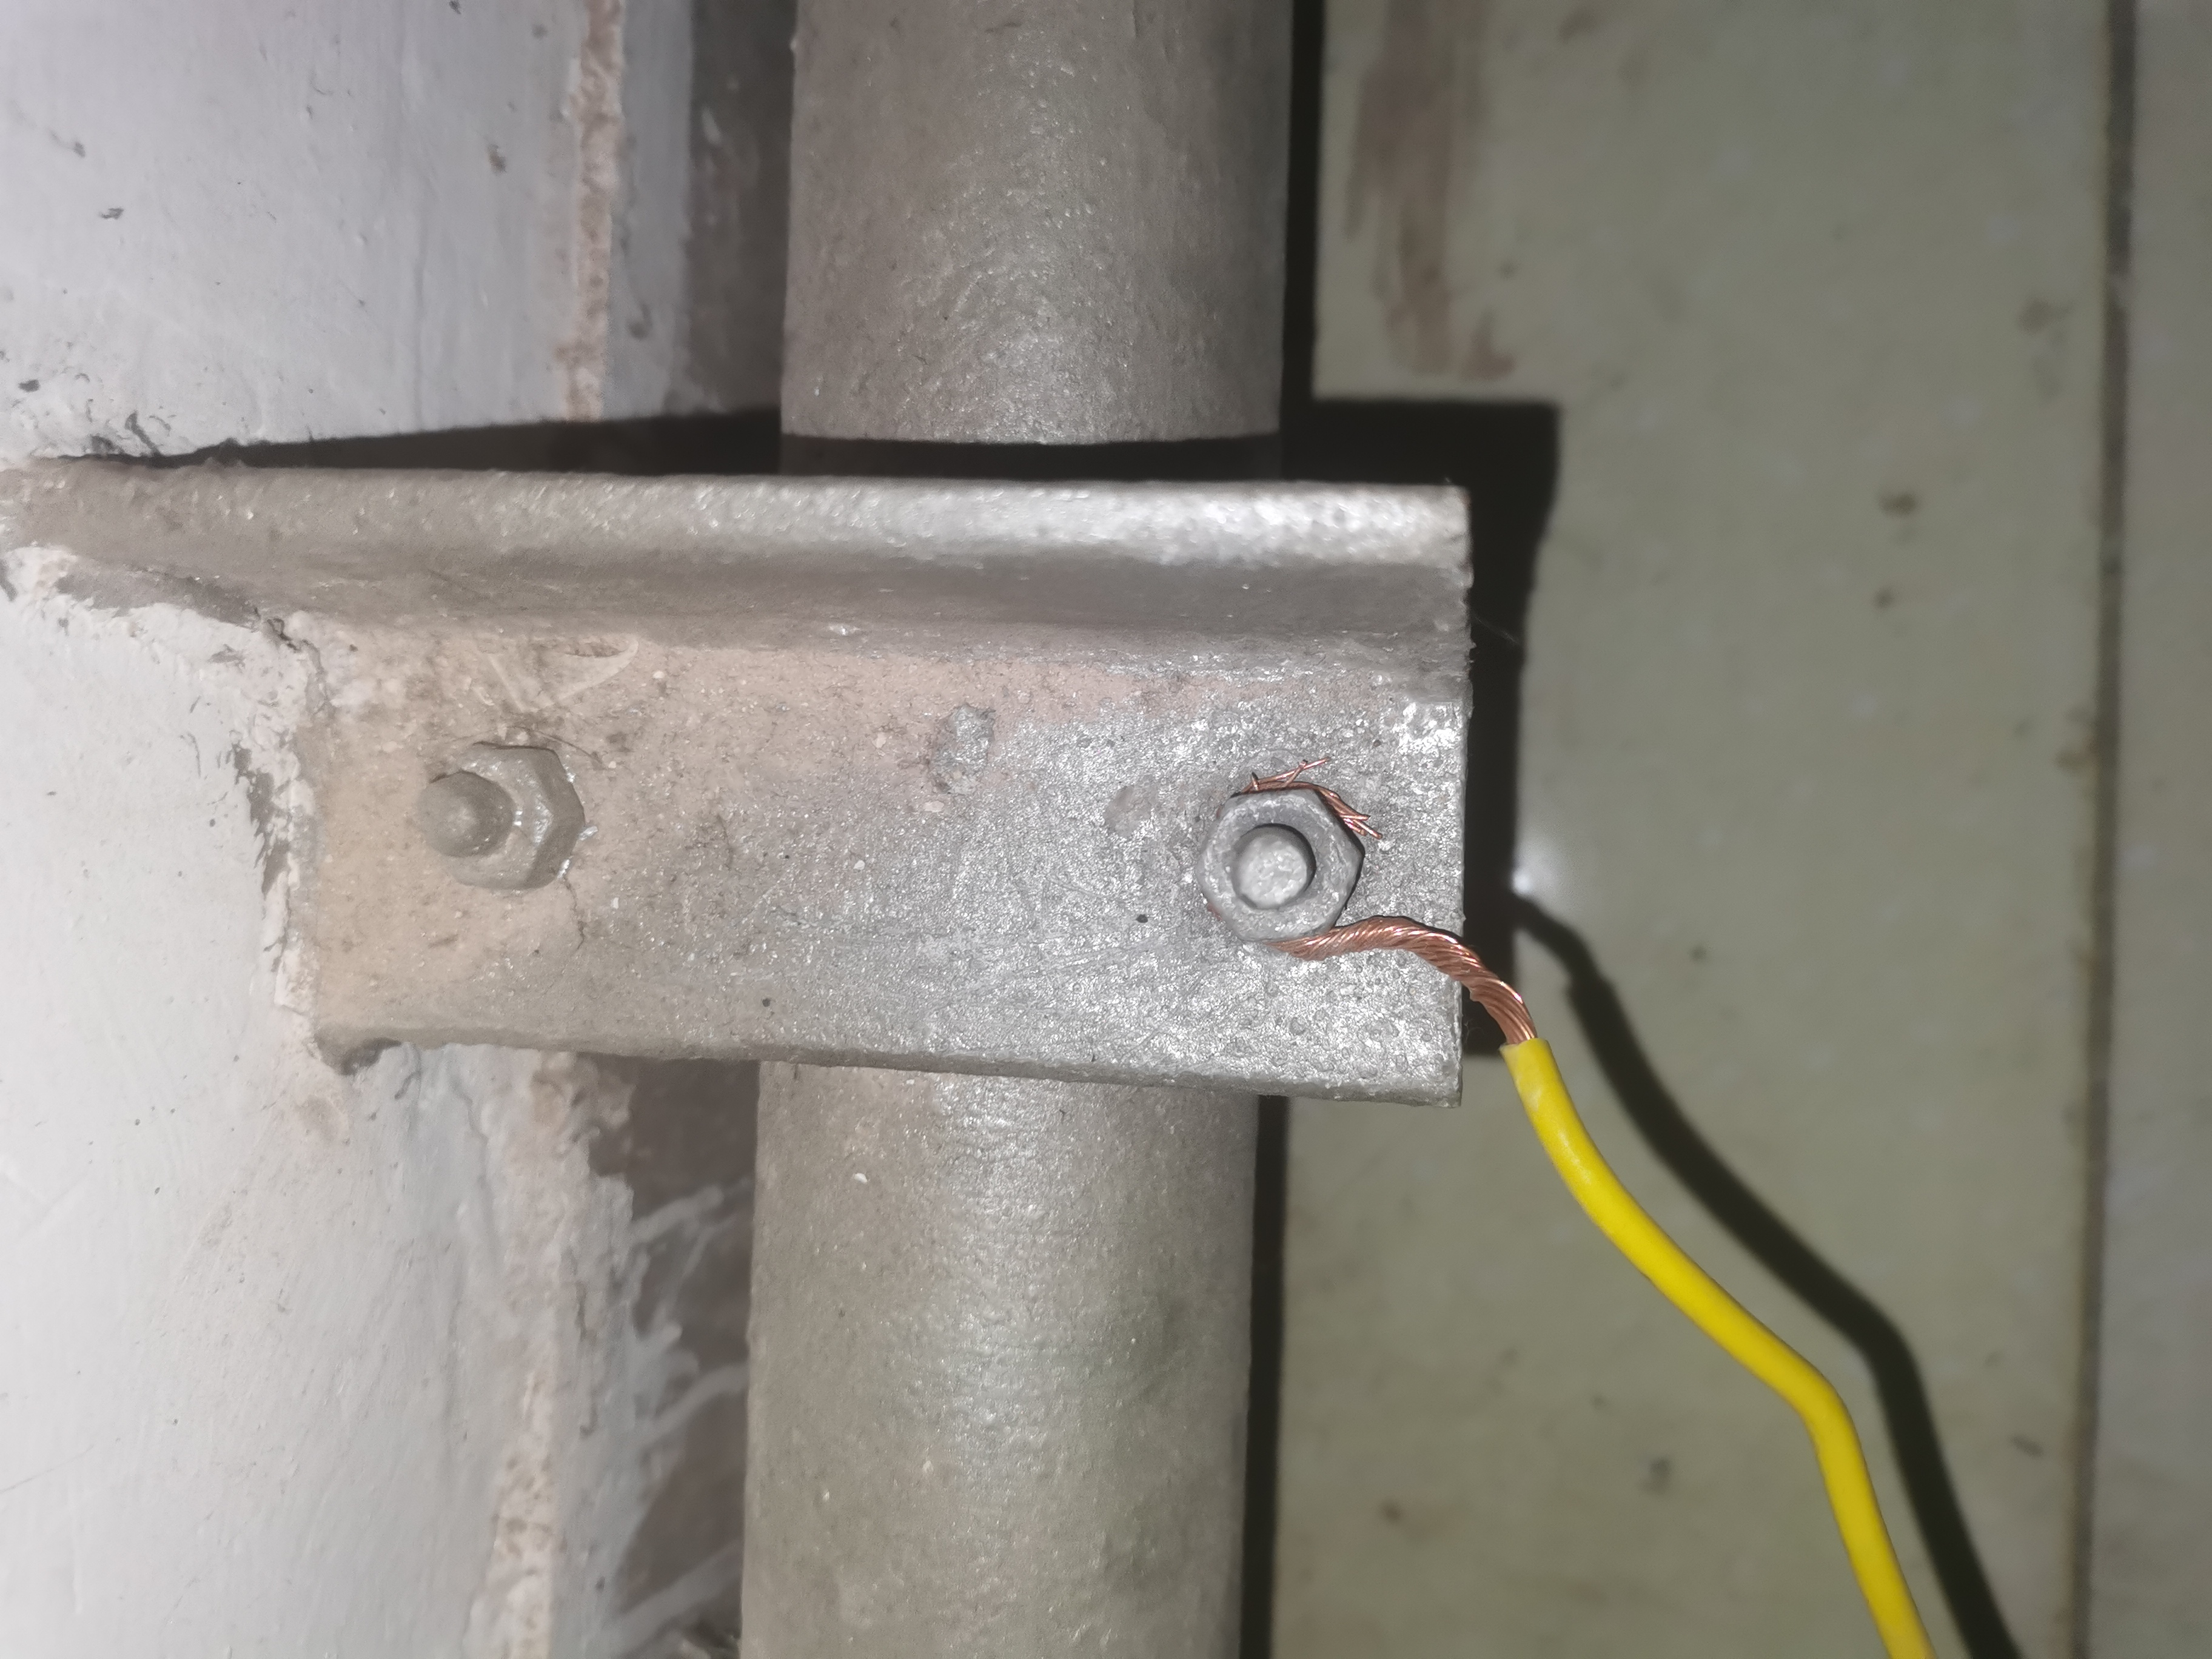bolt_b: (1190, 777, 1367, 948), (421, 735, 587, 897)
